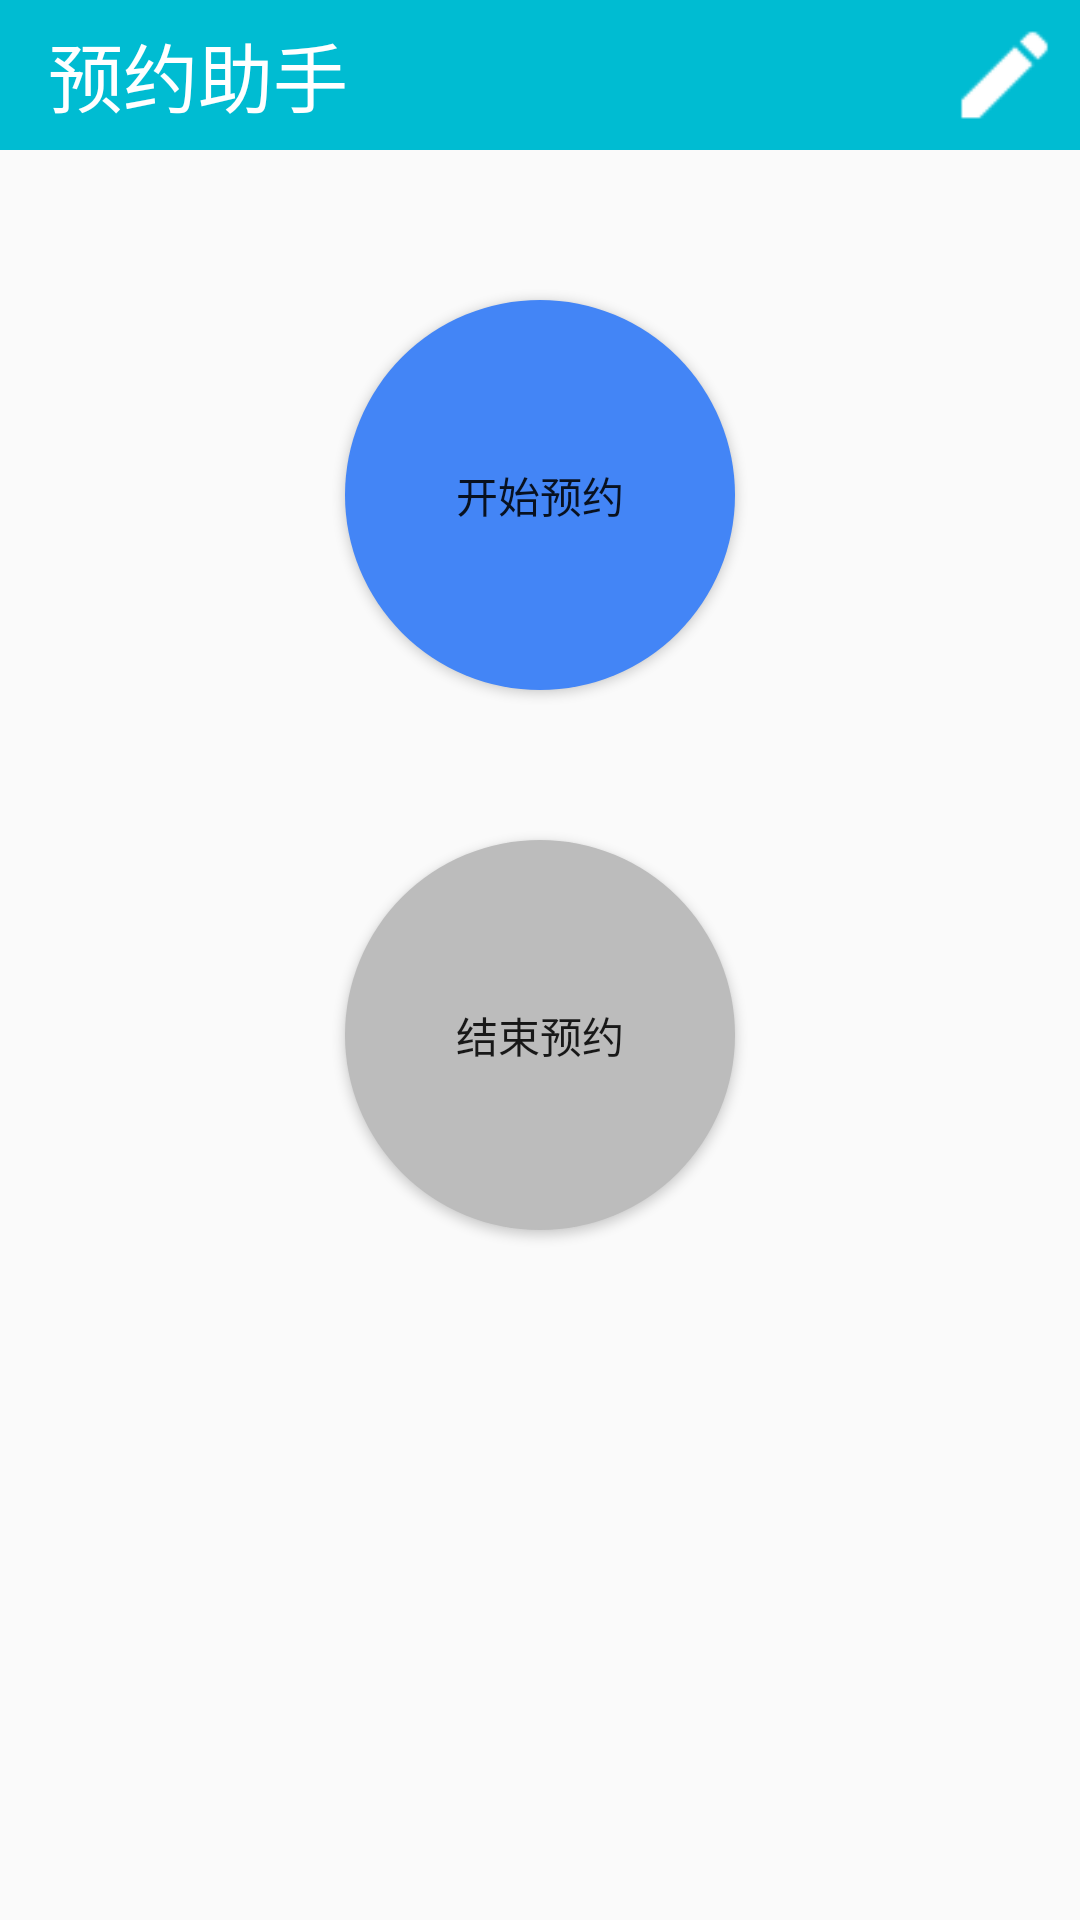

Screen size 1080px×1920px. Icon name, then its box in pixels as (x1,y1,x2,y2):
edit: (961,31,1048,119)
